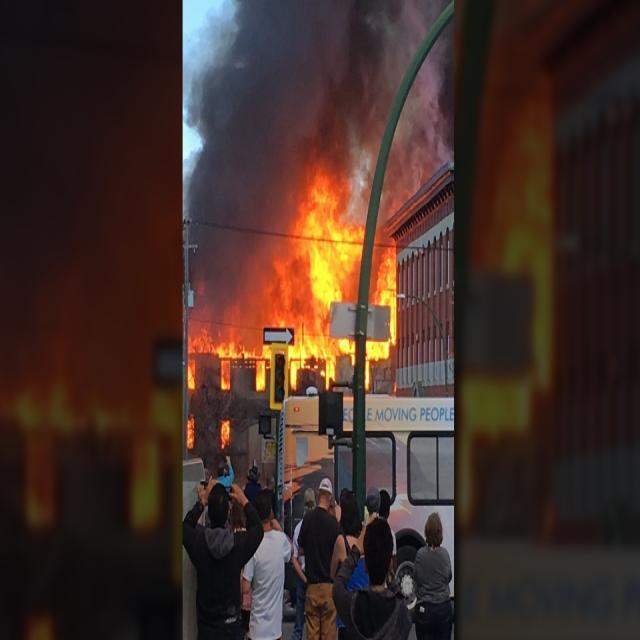Fire: (263, 142, 366, 327), (288, 318, 356, 392), (371, 236, 396, 344), (188, 326, 272, 358), (365, 340, 390, 391), (220, 419, 230, 449), (256, 361, 265, 391), (221, 362, 230, 389), (188, 360, 195, 390), (188, 416, 194, 449)
Smoke: (294, 0, 454, 226), (182, 0, 263, 325), (262, 0, 294, 261)
